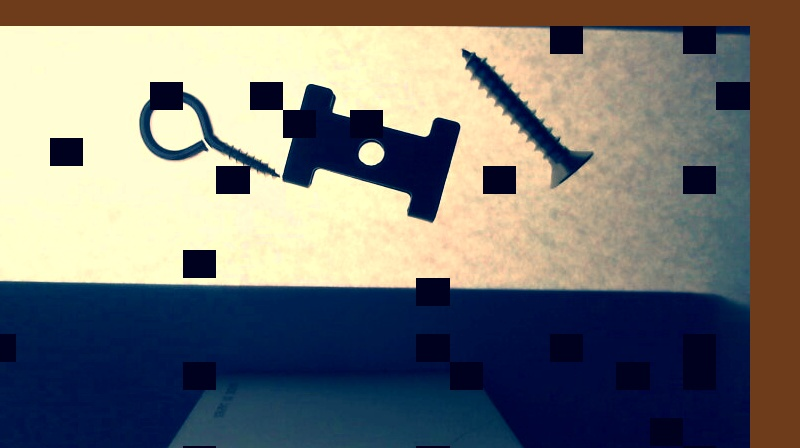O001: (136, 87, 280, 180)
O002: (284, 81, 459, 224)
S001: (460, 47, 595, 188)
